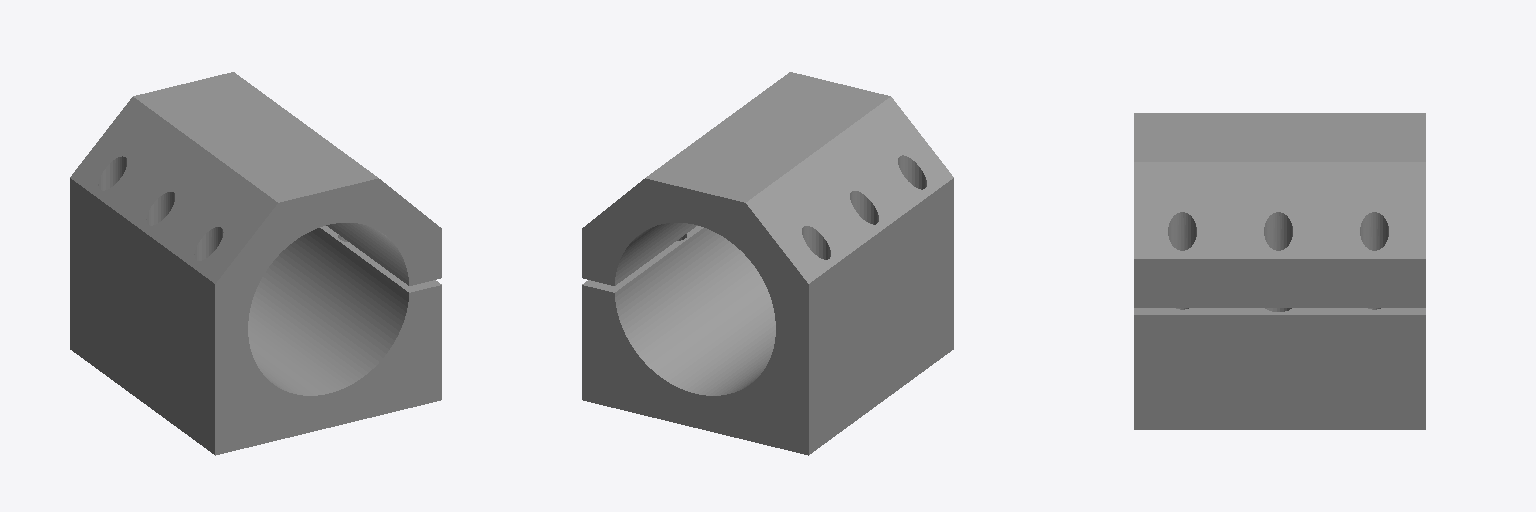
Rendered from spindelhalter.obj.
The picture shows the model from 3 angles: view 1: azimuth 30°, elevation 25°; view 2: azimuth 150°, elevation 25°; view 3: azimuth 270°, elevation 25°; orthographic projection.
Visible parts, largest first — view 1: spidelhlter_spindelhalter; view 2: spidelhlter_spindelhalter; view 3: spidelhlter_spindelhalter.
Boxes of the visible parts, x1,y1,x2,y2 form: spidelhlter_spindelhalter: [70, 72, 441, 455]; spidelhlter_spindelhalter: [582, 72, 953, 455]; spidelhlter_spindelhalter: [1134, 113, 1425, 429].
Bounding box in the file's own units: 90 × 90 × 100.